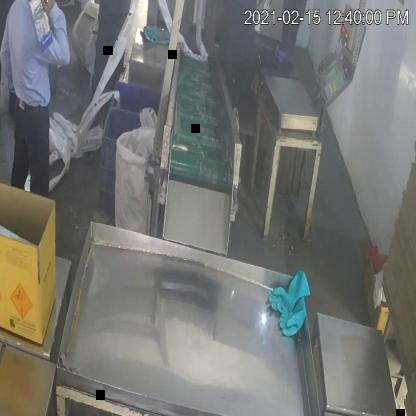glove: (268, 266, 311, 340)
no_glove: (38, 0, 73, 75)
